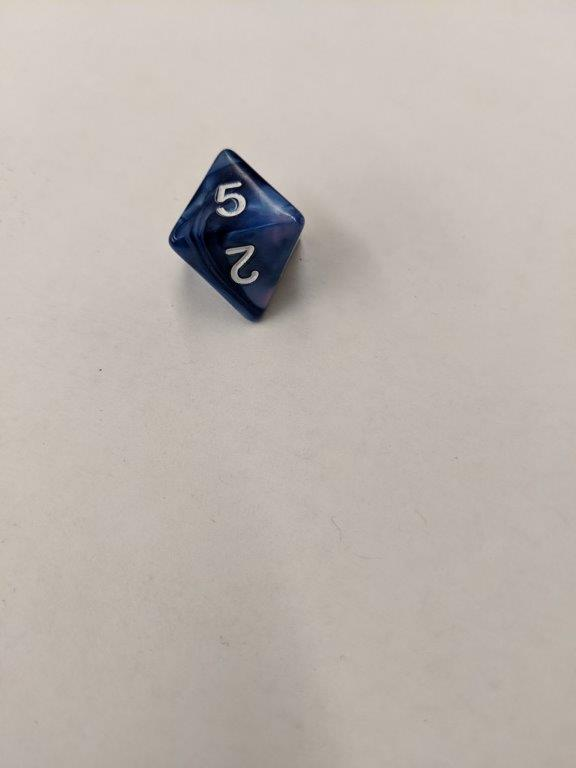d8-5: (166, 148, 305, 324)
